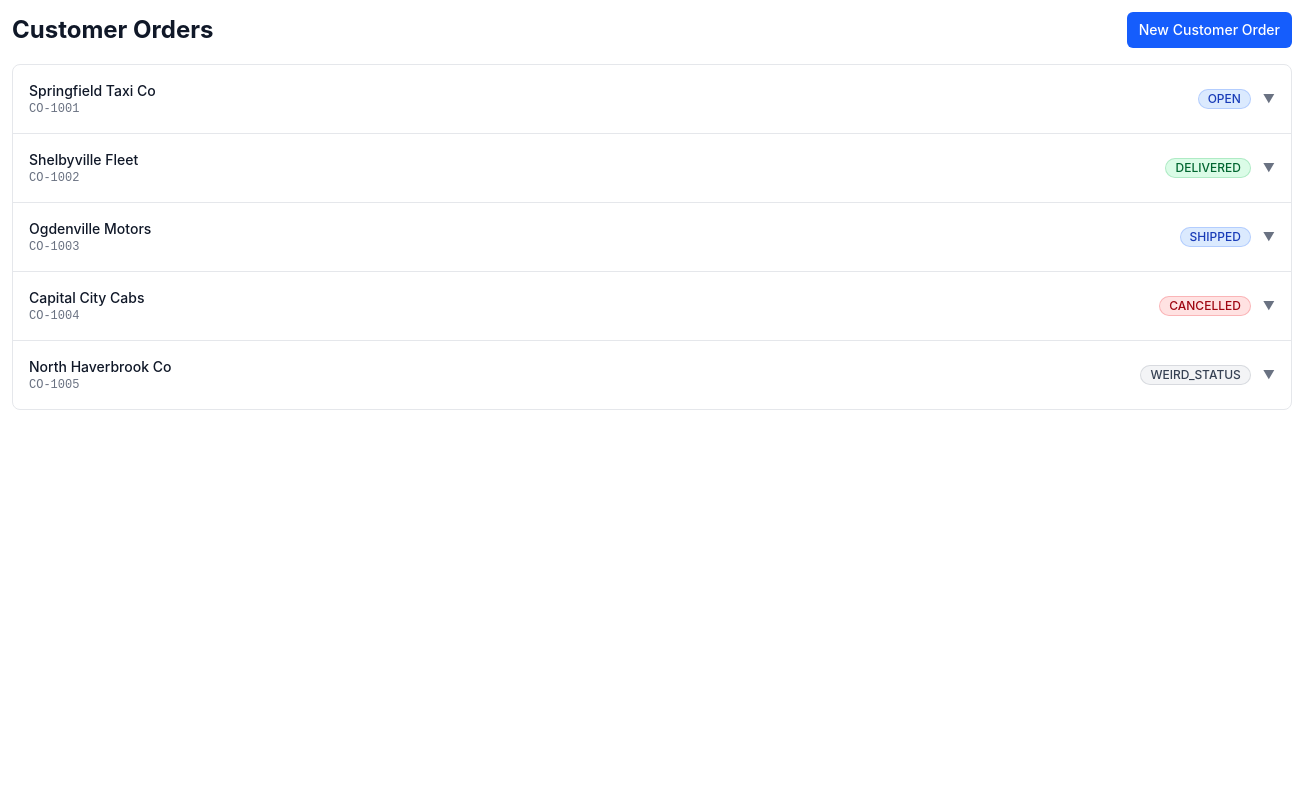
Scenario: CustomerOrders detail › shows 'unknown' fulfillment when the supplier-PO lookup fails
The width and height of the screenshot is (1304, 812).
Click the text "CO-1001" at (54, 109), box [29,102,79,116]
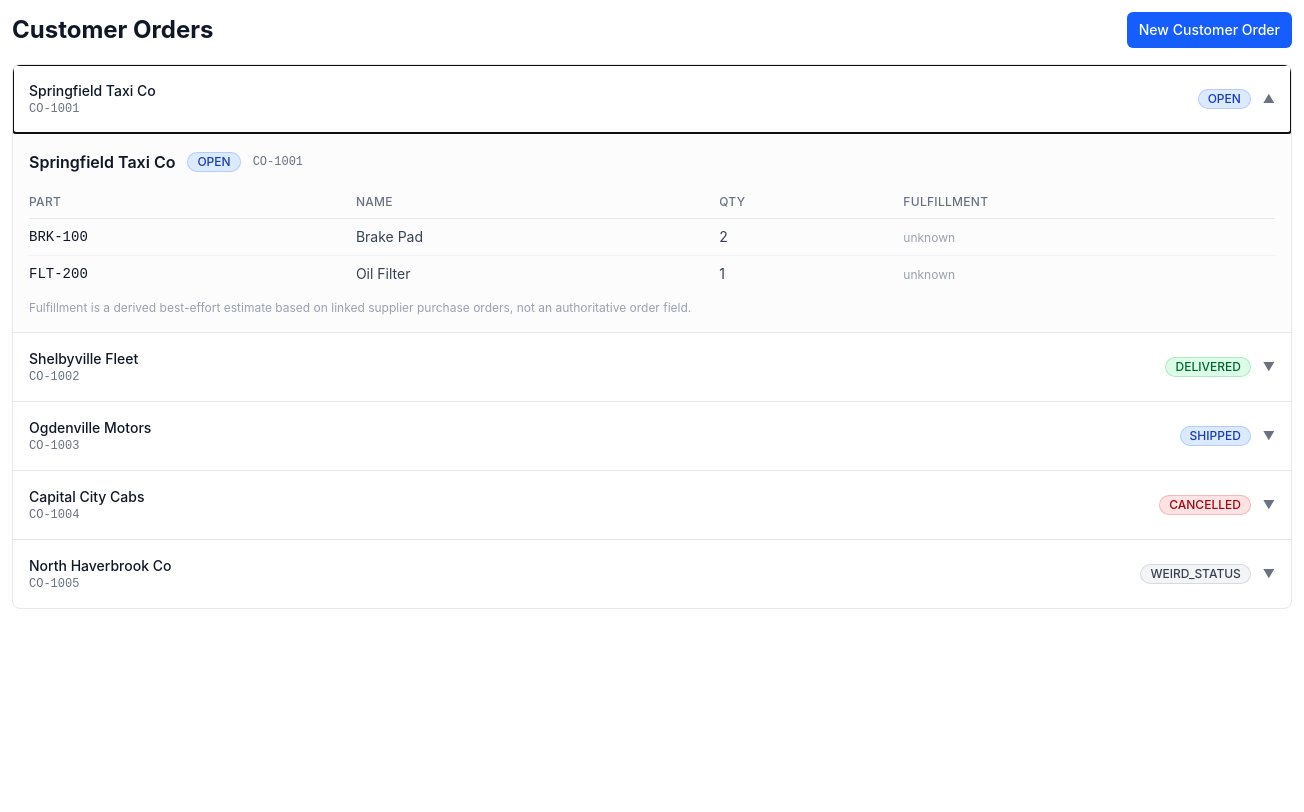
Expected: the text "Brake Pad" is shown, [356,218,719,256]
Expected: the text "unknown" in the row of "BRK-100" is shown, [903,230,955,245]
